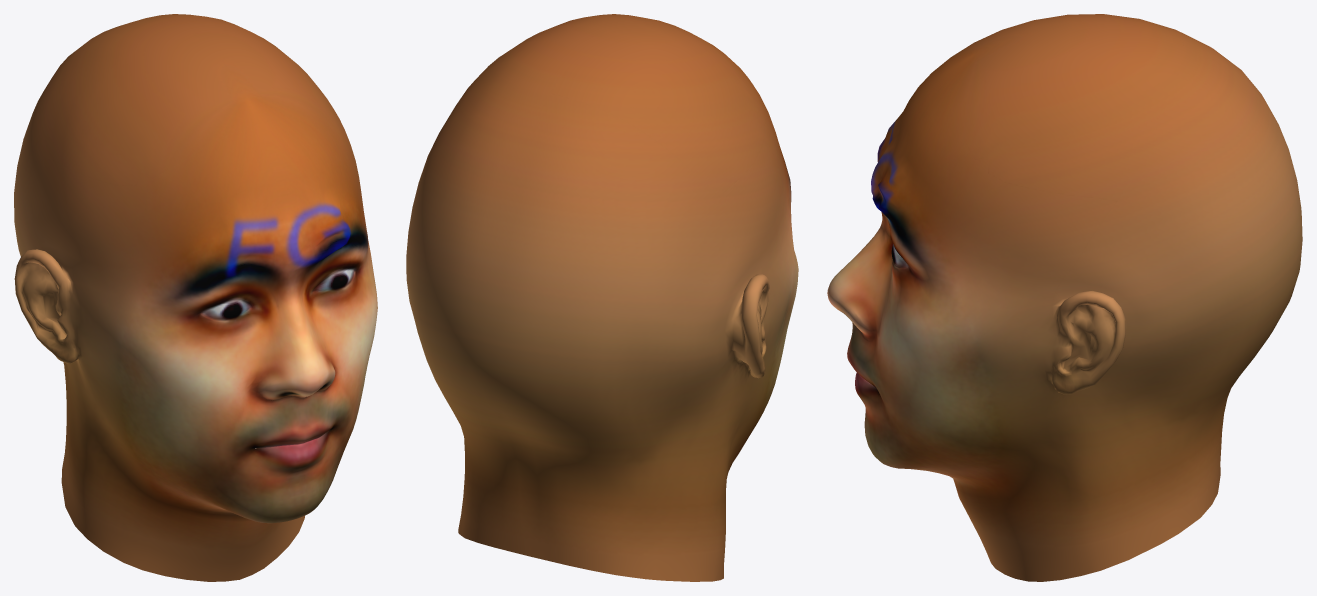
File: avg_anyrace_male_05.obj
The picture shows the model from 3 angles, left to right: view 1: azimuth 30°, elevation 25°; view 2: azimuth 150°, elevation 25°; view 3: azimuth 270°, elevation 25°; orthographic projection. The views are drawn at different scales.
Parts seen in each view (by area): view 1: HeadHires; view 2: HeadHires; view 3: HeadHires.
Part boxes in pixels (box(x1,y1,x2,y2)): HeadHires: box(14, 14, 377, 581); HeadHires: box(406, 14, 798, 581); HeadHires: box(827, 14, 1302, 581).
Bounding box in the file's own units: 187 × 283 × 231.
Materials: 1 (1 with a texture image).
